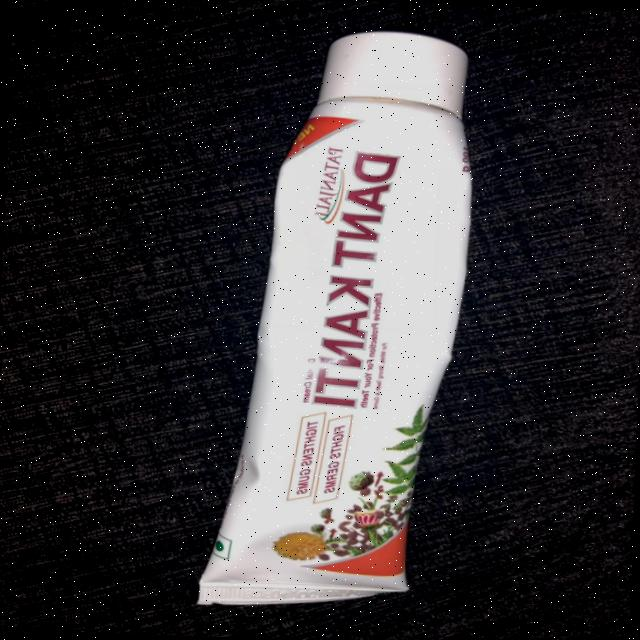Toothpaste: (180, 21, 490, 623)
